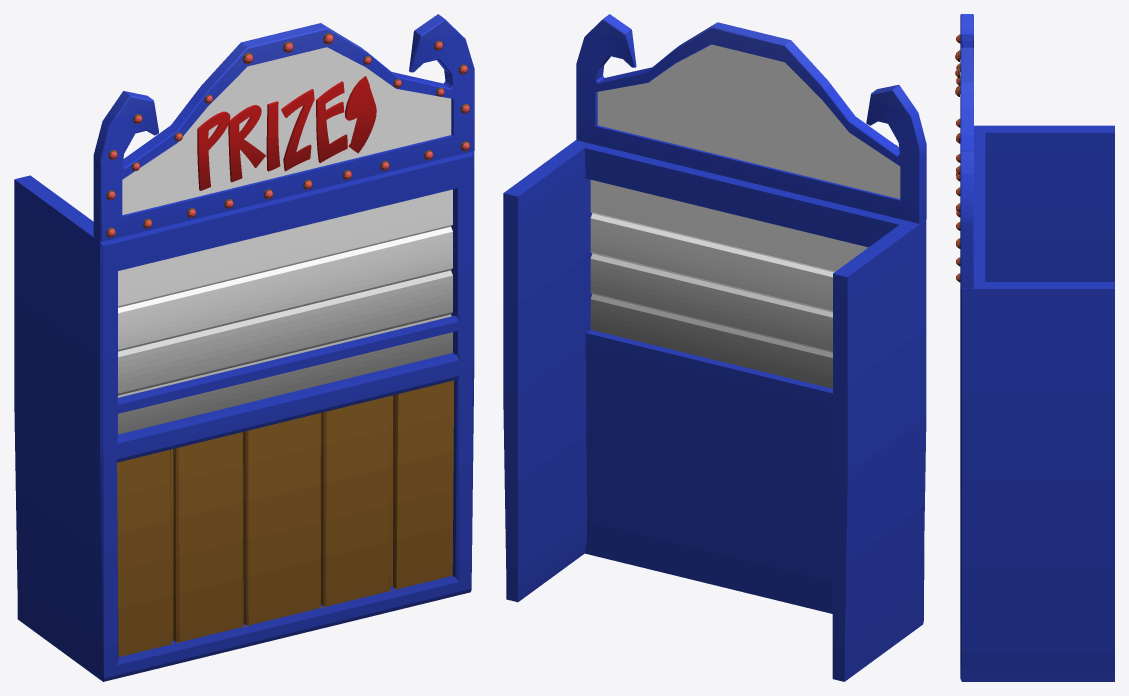
The model's file is PrizeBooth.fbx.
The picture shows the model from 3 angles, left to right: view 1: azimuth 30°, elevation 25°; view 2: azimuth 150°, elevation 25°; view 3: azimuth 270°, elevation 25°; orthographic projection. The views are drawn at different scales.
Visible parts, largest first — view 1: TicketBooth_02, Gate, TicketSign, Prizes; view 2: TicketBooth_02, TicketSign, Gate; view 3: TicketBooth_02, TicketSign.
Part boxes in pixels (left/top/right/bottom): TicketBooth_02: left=14, top=151, right=474, bottom=681; Gate: left=117, top=189, right=452, bottom=434; TicketSign: left=93, top=14, right=474, bottom=241; Prizes: left=197, top=76, right=376, bottom=190; TicketBooth_02: left=503, top=140, right=926, bottom=681; TicketSign: left=576, top=14, right=926, bottom=223; Gate: left=590, top=180, right=868, bottom=388; TicketBooth_02: left=960, top=125, right=1114, bottom=681; TicketSign: left=960, top=14, right=973, bottom=288.
Size of the model in its own units: 2.92 by 4.47 by 1.21.
